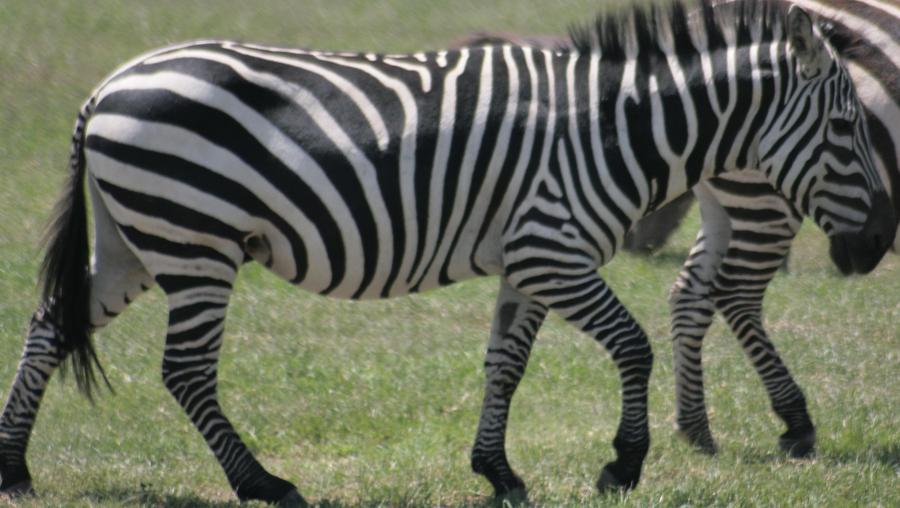zebra_plains: (110, 25, 607, 288)
